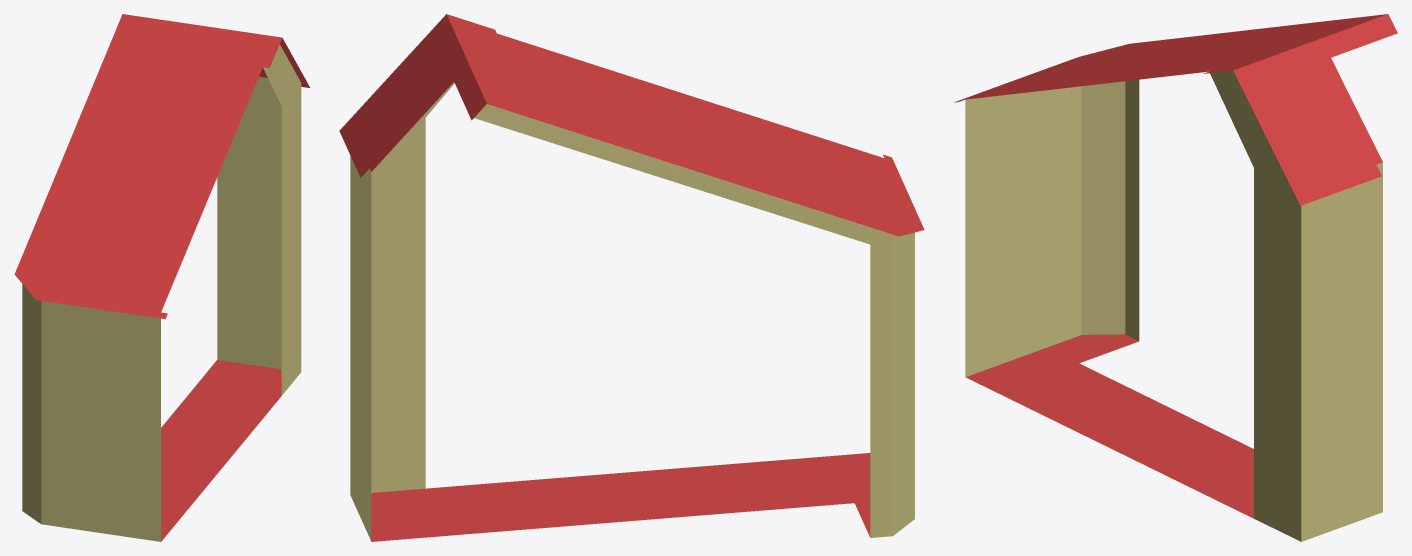
3 renders of one model, left to right at view 1: azimuth 30°, elevation 25°; view 2: azimuth 150°, elevation 25°; view 3: azimuth 270°, elevation 25°, orthographic. The views are drawn at different scales.
Size of the model in its own units: 14.54 by 12.63 by 13.89.
